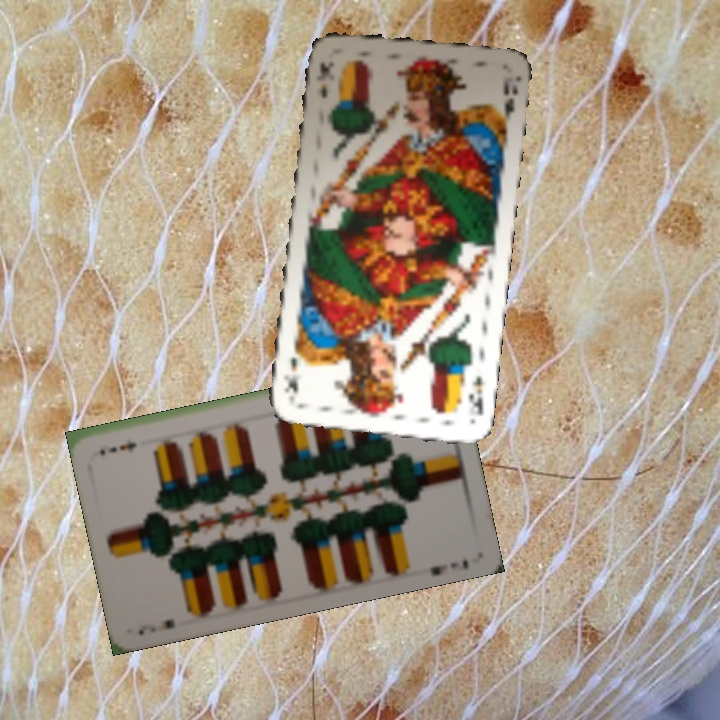E7: (133, 615, 178, 638)
EK: (465, 371, 487, 419), (315, 57, 336, 101)
